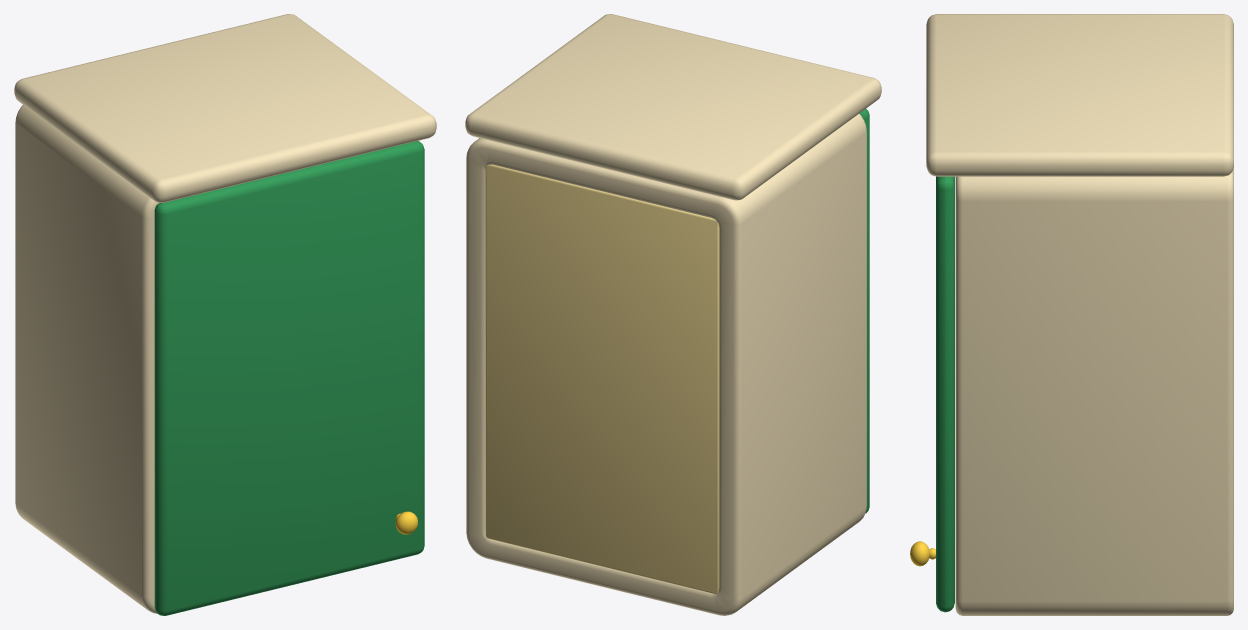
File: armario_parede_1porta_creme.glb
3 renders of one model, left to right at view 1: azimuth 30°, elevation 25°; view 2: azimuth 150°, elevation 25°; view 3: azimuth 270°, elevation 25°, orthographic. The views are drawn at different scales.
Parts seen in each view (by area): view 1: porta_1, armario_parede_1porta_creme; view 2: armario_parede_1porta_creme, porta_1; view 3: armario_parede_1porta_creme, porta_1.
Part boxes in pixels (x1,y1,x2,y2): porta_1: (154, 141, 424, 615); armario_parede_1porta_creme: (14, 14, 436, 613); armario_parede_1porta_creme: (465, 14, 881, 615); porta_1: (859, 109, 869, 513); armario_parede_1porta_creme: (926, 14, 1233, 615); porta_1: (910, 176, 954, 612).
Bounding box in the file's own units: 0.398 × 0.6 × 0.375.
1 material, 1 textured.
